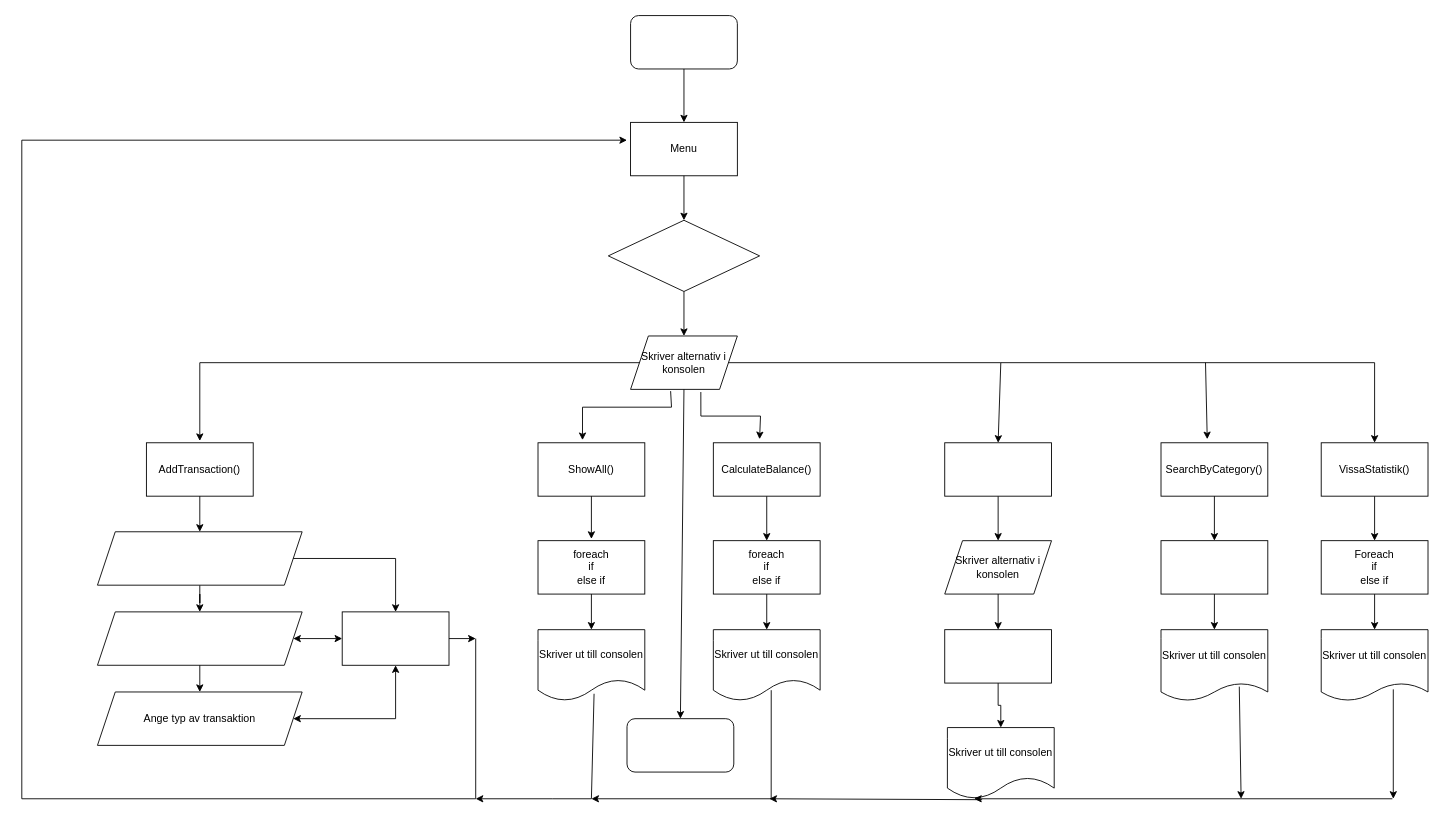
Image size: 1444x823. Some labels were removed from this diagram. Here are the shapes that lost their labels. From the top down, the centre of each, then its label:
At point (683, 42): "Start".
At point (683, 255): "Välj bland alternativ".
At point (998, 469): "DelateTransaction()".
At point (199, 558): "Ange beskrivningen av transaktionen".
At point (1214, 567): "if foreach if".
At point (199, 638): "Ange summan av transaktionen".
At point (395, 638): "sparar variabeln i konsolen".
At point (998, 656): "if else".
At point (680, 745): "Avsluta".
